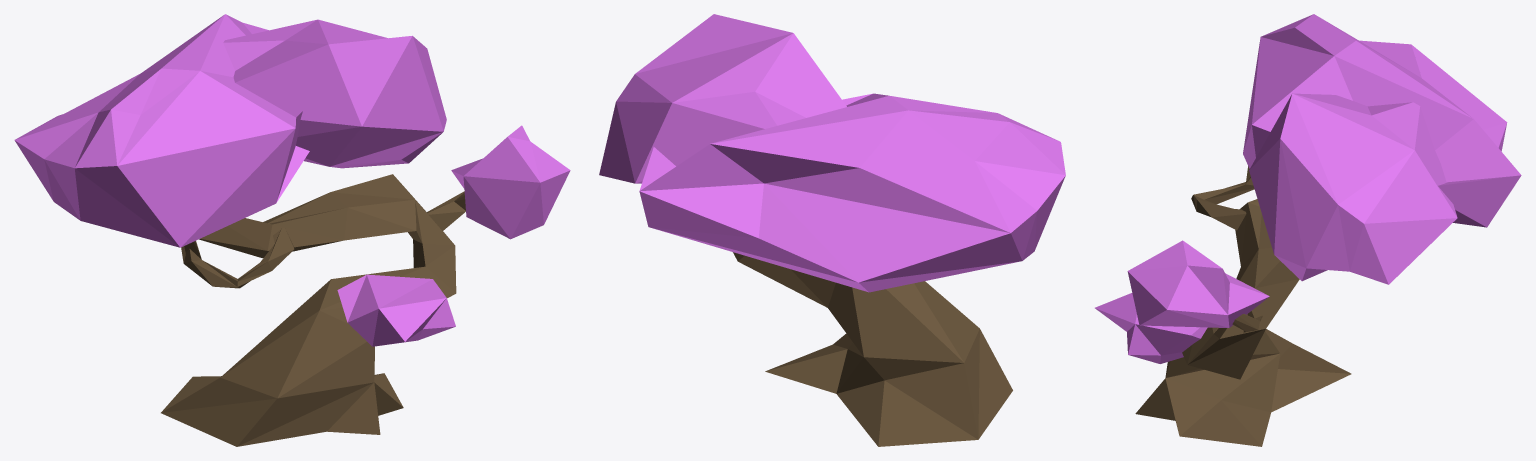
The model's file is Cerisier2.FBX.
3 renders of one model, left to right at view 1: azimuth 30°, elevation 25°; view 2: azimuth 150°, elevation 25°; view 3: azimuth 270°, elevation 25°, orthographic. The views are drawn at different scales.
Parts seen in each view (by area): view 1: Cerisier; view 2: Cerisier; view 3: Cerisier.
Boxes of the visible parts, x1,y1,x2,y2 form: Cerisier: (14, 14, 570, 446); Cerisier: (599, 14, 1065, 446); Cerisier: (1095, 14, 1521, 446).
Size of the model in its own units: 6.54 by 4.7 by 5.46.
